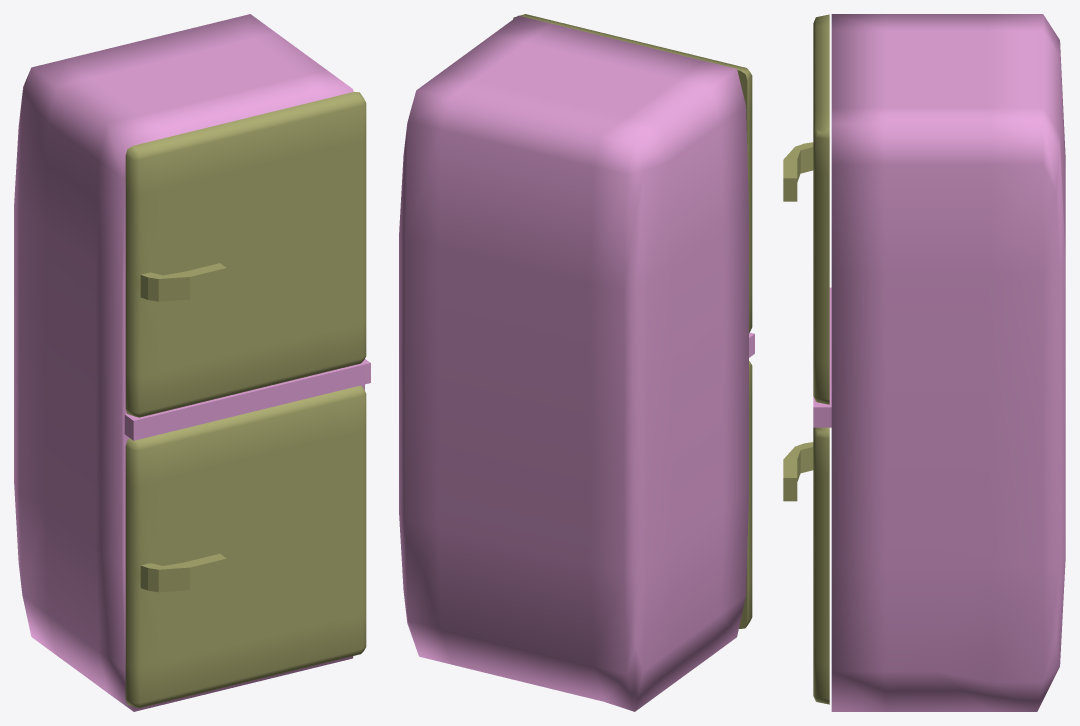
Rendered from refrigerator.fbx.
The picture shows the model from 3 angles, left to right: view 1: azimuth 30°, elevation 25°; view 2: azimuth 150°, elevation 25°; view 3: azimuth 270°, elevation 25°; orthographic projection. The views are drawn at different scales.
Visible parts, largest first — view 1: Box001, Box002, Box003; view 2: Box001, Box002, Box003; view 3: Box001, Box002, Box003.
Part boxes in pixels (box(x1,y1,x2,y2)): Box001: box(14, 14, 370, 711); Box002: box(125, 91, 366, 417); Box003: box(125, 385, 366, 708); Box001: box(399, 15, 754, 711); Box002: box(513, 14, 752, 332); Box003: box(739, 361, 752, 628); Box001: box(813, 14, 1065, 711); Box002: box(783, 14, 829, 404); Box003: box(783, 427, 829, 704).
Size of the model in its own units: 33.19 by 32.36 by 74.31.
